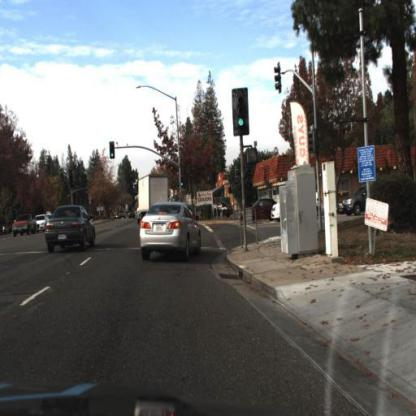car: (135, 198, 202, 270), (41, 195, 103, 269), (139, 198, 203, 266), (369, 177, 394, 221), (13, 205, 37, 243), (32, 206, 55, 237), (249, 195, 272, 226), (269, 194, 290, 223), (126, 207, 140, 226), (115, 207, 127, 225)
trafficLight-Green: (232, 114, 249, 137), (108, 145, 121, 168), (180, 171, 188, 194), (179, 175, 185, 192)
truck: (132, 169, 176, 219)
